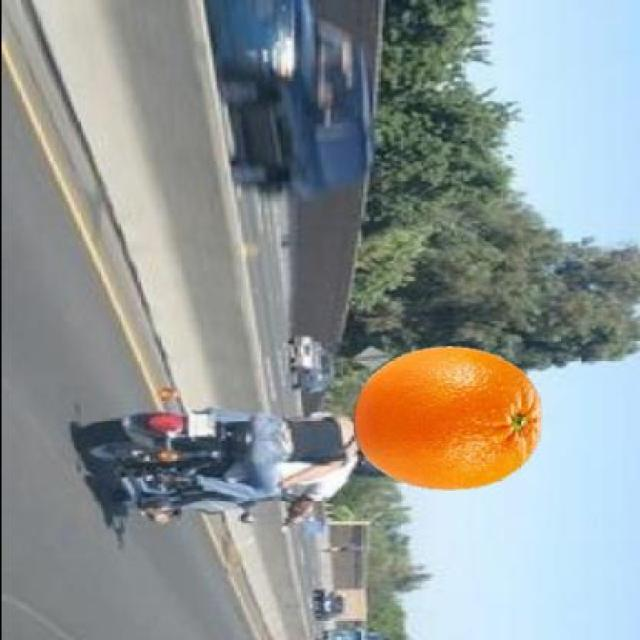Orange: (352, 343, 542, 491)
